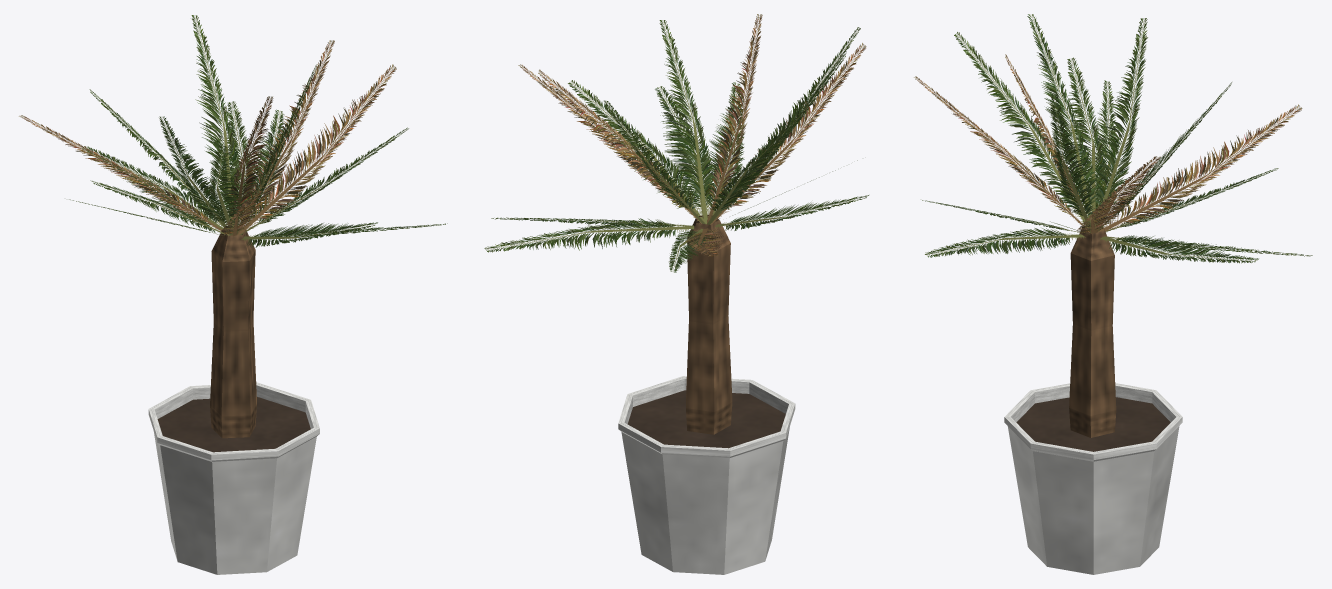
File: SM_Molo_PalmaVaso_LOD2.fbx
The picture shows the model from 3 angles, left to right: view 1: azimuth 30°, elevation 25°; view 2: azimuth 150°, elevation 25°; view 3: azimuth 270°, elevation 25°; orthographic projection. The views are drawn at different scales.
Parts seen in each view (by area): view 1: SM_Molo_PalmaVaso_LOD2; view 2: SM_Molo_PalmaVaso_LOD2; view 3: SM_Molo_PalmaVaso_LOD2.
Part boxes in pixels (x1=…): SM_Molo_PalmaVaso_LOD2: x1=19, y1=15, x2=447, y2=574; SM_Molo_PalmaVaso_LOD2: x1=484, y1=14, x2=868, y2=574; SM_Molo_PalmaVaso_LOD2: x1=914, y1=14, x2=1312, y2=574.
Bounding box in the file's own units: 249 × 261 × 346.
2 materials, 2 textured.
